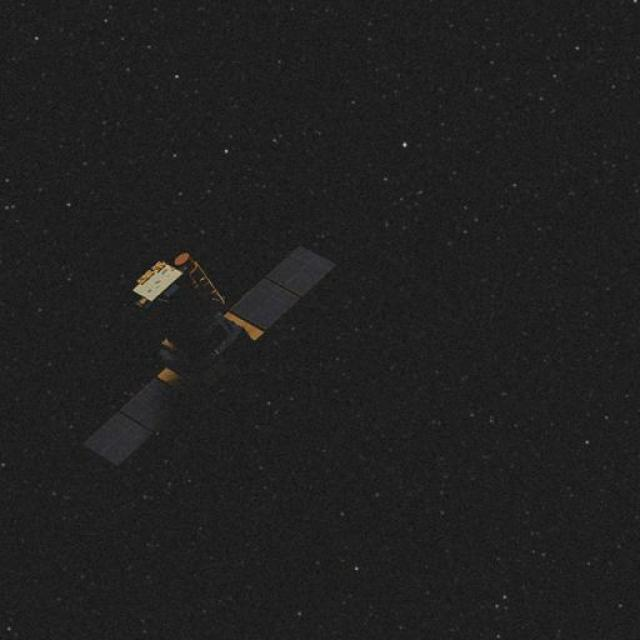soho: (102, 207, 314, 448)
